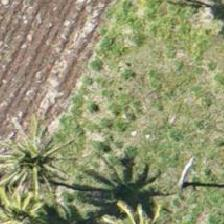coconut_tree: (0, 117, 81, 207)
